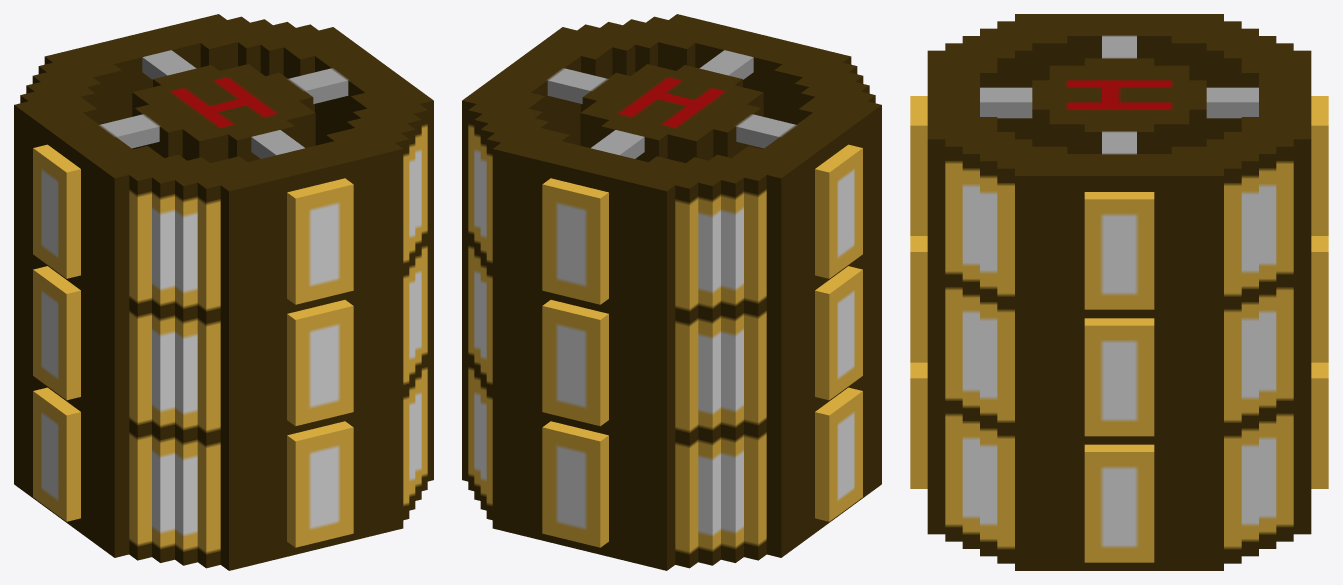
The model's file is seventhModel(brown).fbx.
3 renders of one model, left to right at view 1: azimuth 30°, elevation 25°; view 2: azimuth 150°, elevation 25°; view 3: azimuth 270°, elevation 25°, orthographic. The views are drawn at different scales.
Visible parts, largest first — view 1: Torus; view 2: Torus; view 3: Torus.
Part boxes in pixels (<box>): Torus: <box>14,14,433,570</box>; Torus: <box>462,14,881,570</box>; Torus: <box>910,14,1328,570</box>.
Size of the model in its own units: 24 by 25 by 24.
Materials: 1 (1 with a texture image).
